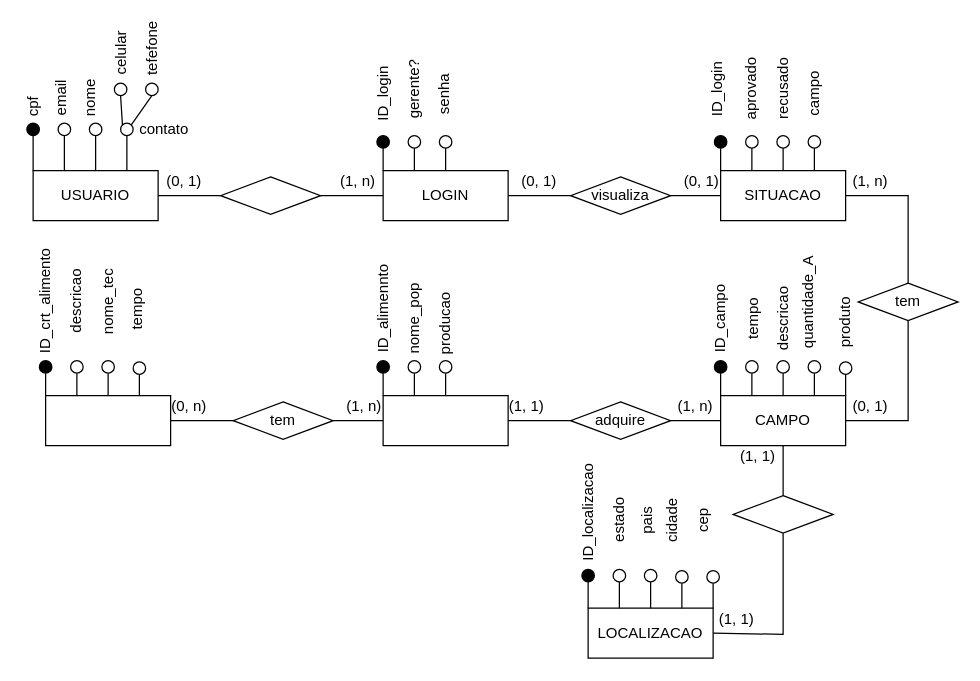
This 980x681 diagram has some shape labels left out. Here are the shapes that lost their labels. From the top down, the centre of each, then its label:
the point at 270,195: possui
the point at 107,420: CRT_ALIMENTO
the point at 445,420: ALIMENTO
the point at 782,513: esta
